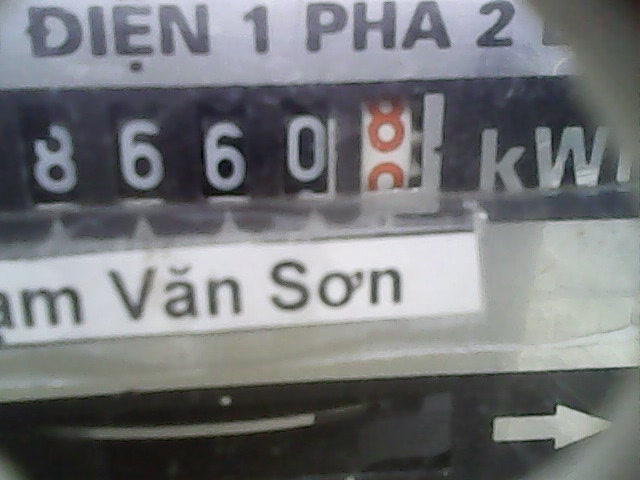phy_plate: (2, 76, 457, 226)
